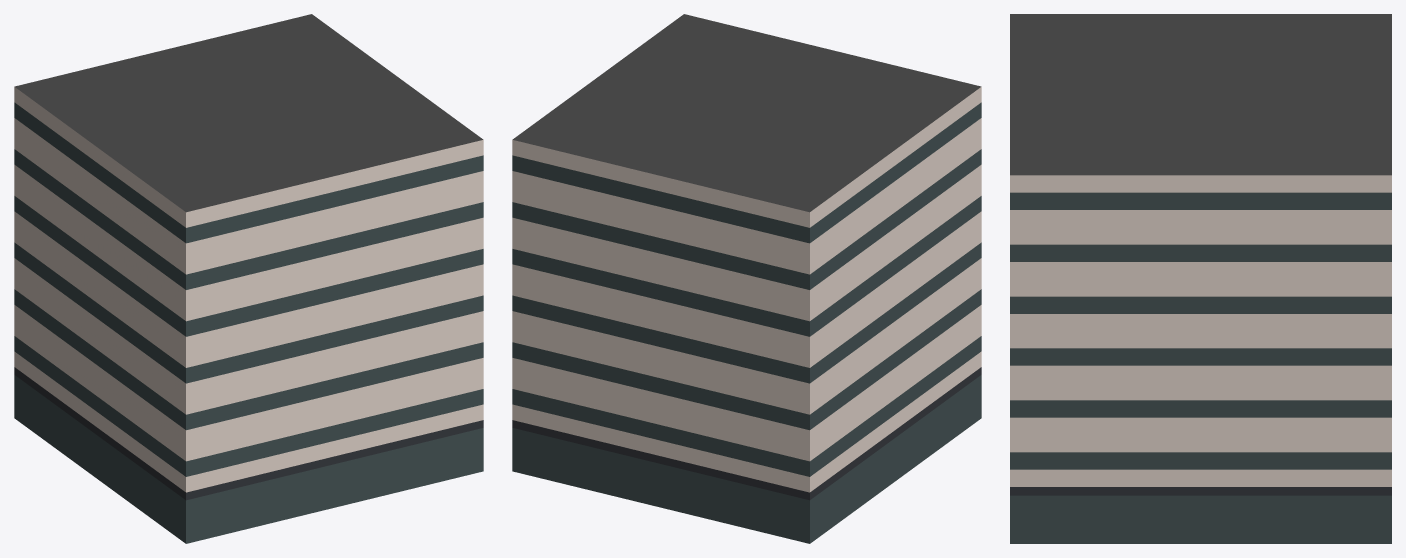
File: far.fbx
3 renders of one model, left to right at view 1: azimuth 30°, elevation 25°; view 2: azimuth 150°, elevation 25°; view 3: azimuth 270°, elevation 25°, orthographic. The views are drawn at different scales.
Parts seen in each view (by area): view 1: a2006/0/far; view 2: a2006/0/far; view 3: a2006/0/far.
Boxes of the visible parts, x1,y1,x2,y2 form: a2006/0/far: [14, 14, 483, 543]; a2006/0/far: [512, 14, 981, 543]; a2006/0/far: [1010, 14, 1391, 543].
Size of the model in its own units: 20 by 21.3 by 20.
